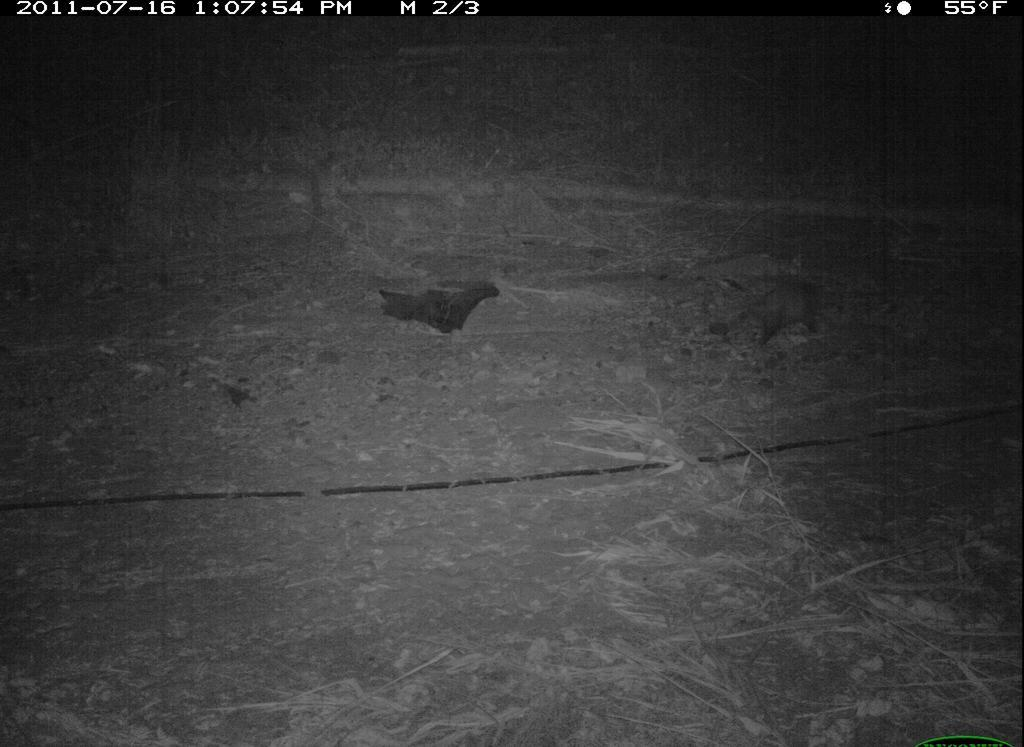opossum: (740, 276, 829, 361)
